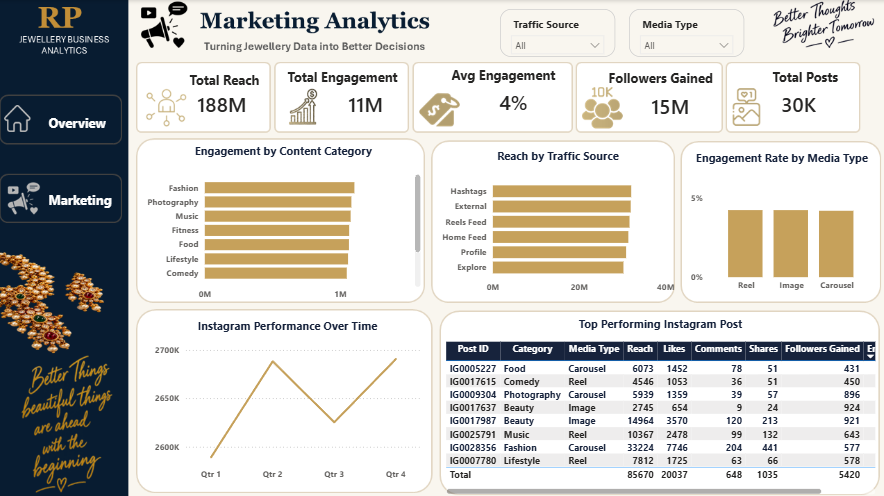

The page's visual inventory and layout, read from the dashboard file:
{"tool":"powerbi","page":{"name":"Marketing Analytics","canvas":[1280,720],"ordinal":5},"visuals":[{"type":"cardVisual","fields":{"Data":["DateTable.Total_Reach"]},"box":[256.3,110.9,138.2,72],"z":0},{"type":"cardVisual","fields":{"Data":["DateTable.Total_engagement"]},"box":[473.8,110.9,113.8,74.9],"z":1000},{"type":"cardVisual","fields":{"Data":["DateTable.Avg_engagement_rate"]},"box":[691.2,110.9,113.8,66.2],"z":2000},{"type":"cardVisual","fields":{"Data":["DateTable.Followers_gained"]},"box":[910.1,116.6,115.2,66.2],"z":3000},{"type":"clusteredBarChart","title":"Engagement by Content Category","fields":{"Category":["Instagram_Analytics.content_category"],"Y":["DateTable.Total_engagement"]},"box":[207.4,205.9,404.6,236.2],"z":4000},{"type":"clusteredBarChart","title":"Reach by Traffic Source","fields":{"Category":["Instagram_Analytics.traffic_source"],"Y":["DateTable.Total_Reach"]},"box":[632.2,213.1,345.6,218.9],"z":5000},{"type":"clusteredColumnChart","title":"Engagement Rate by Media Type","fields":{"Category":["Instagram_Analytics.media_type"],"Y":["DateTable.Avg_engagement_rate"]},"box":[990.7,216,273.6,213.1],"z":6000},{"type":"lineChart","title":"Instagram Performance Over Time","fields":{"Category":["Instagram_Analytics.post_date.Variation.Date Hierarchy.Year","Instagram_Analytics.post_date.Variation.Date Hierarchy.Quarter","Instagram_Analytics.post_date.Variation.Date Hierarchy.Month","Instagram_Analytics.post_date.Variation.Date Hierarchy.Day"],"Y":["DateTable.Total_engagement"]},"box":[218.9,457.9,393.1,243.4],"z":7000},{"type":"tableEx","title":"Top Performing Instagram Post","fields":{"Values":["Instagram_Analytics.post_id","Instagram_Analytics.content_category","Instagram_Analytics.media_type","Sum(Instagram_Analytics.reach)","Sum(Instagram_Analytics.likes)","Sum(Instagram_Analytics.comments)","Sum(Instagram_Analytics.shares)","Sum(Instagram_Analytics.followers_gained)","Instagram_Analytics.engagement_rate"]},"box":[637.9,455,629.3,262.1],"z":8000},{"type":"cardVisual","fields":{"Data":["DateTable.Total_Posts"]},"box":[1097.3,113.8,113.8,66.2],"z":9000},{"type":"textbox","box":[269.3,97.9,112.3,46.1],"z":10000},{"type":"textbox","box":[410.4,93.6,184.3,46.1],"z":11000},{"type":"textbox","box":[646.6,90.7,167,46.1],"z":12000},{"type":"textbox","box":[872.6,95,161.3,46.1],"z":13000},{"type":"textbox","box":[1108.8,93.6,112.3,46.1],"z":14000},{"type":"textbox","box":[66.2,270.7,113.8,34.6],"z":15000},{"type":"textbox","box":[66.2,159.8,97.9,46.1],"z":16000},{"type":"actionButton","box":[4.3,146.9,180,66.2],"z":17000},{"type":"slicer","fields":{"Values":["Instagram_Analytics.media_type"]},"box":[907.2,13,165.6,69.1],"z":17001},{"type":"slicer","fields":{"Values":["Instagram_Analytics.traffic_source"]},"box":[721.4,13,165.6,69.1],"z":17002}]}

Visuals, with their boxes on the page's 1280x720 design canvas (x1, y1, x2, y2). These are canvas units, not pixel positions in the 884x496 screenshot, which may show the page scaled, cropped or inside an application window:
cardVisual - DateTable.Total_Reach: (256,111,394,183)
cardVisual - DateTable.Total_engagement: (474,111,588,186)
cardVisual - DateTable.Avg_engagement_rate: (691,111,805,177)
cardVisual - DateTable.Followers_gained: (910,117,1025,183)
"Engagement by Content Category" clusteredBarChart: (207,206,612,442)
"Reach by Traffic Source" clusteredBarChart: (632,213,978,432)
"Engagement Rate by Media Type" clusteredColumnChart: (991,216,1264,429)
"Instagram Performance Over Time" lineChart: (219,458,612,701)
"Top Performing Instagram Post" tableEx: (638,455,1267,717)
cardVisual - DateTable.Total_Posts: (1097,114,1211,180)
textbox: (269,98,382,144)
textbox: (410,94,595,140)
textbox: (647,91,814,137)
textbox: (873,95,1034,141)
textbox: (1109,94,1221,140)
textbox: (66,271,180,305)
textbox: (66,160,164,206)
actionButton: (4,147,184,213)
slicer - Instagram_Analytics.media_type: (907,13,1073,82)
slicer - Instagram_Analytics.traffic_source: (721,13,887,82)
